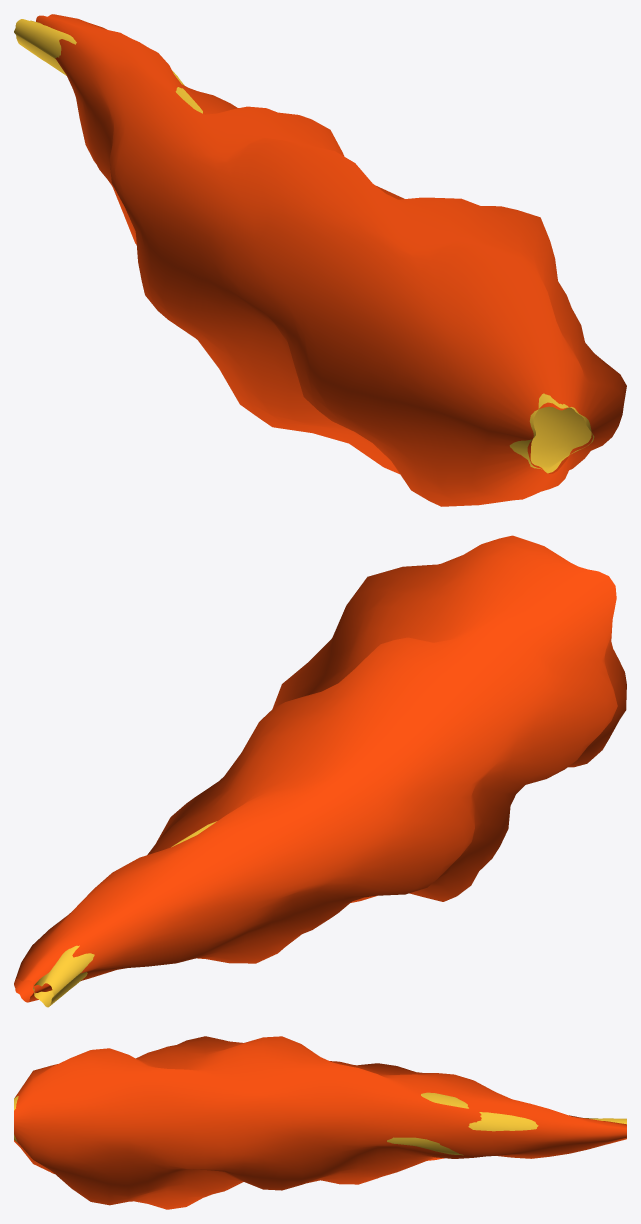
The model's file is flame_volume_v3_4.dae.
The picture shows the model from 3 angles, top to bottom: view 1: azimuth 30°, elevation 25°; view 2: azimuth 150°, elevation 25°; view 3: azimuth 270°, elevation 25°; orthographic projection. The views are drawn at different scales.
Parts seen in each view (by area): view 1: iaf_shell, iaf_core_mesh; view 2: iaf_shell, iaf_core_mesh; view 3: iaf_shell, iaf_core_mesh.
Boxes of the visible parts, x1,y1,x2,y2 form: iaf_shell: [36, 14, 626, 506]; iaf_core_mesh: [14, 19, 594, 473]; iaf_shell: [14, 535, 626, 1002]; iaf_core_mesh: [33, 821, 216, 1007]; iaf_shell: [14, 1036, 626, 1209]; iaf_core_mesh: [14, 1092, 626, 1155].
Bounding box in the file's own units: 0.2264 × 0.8 × 0.2244.
